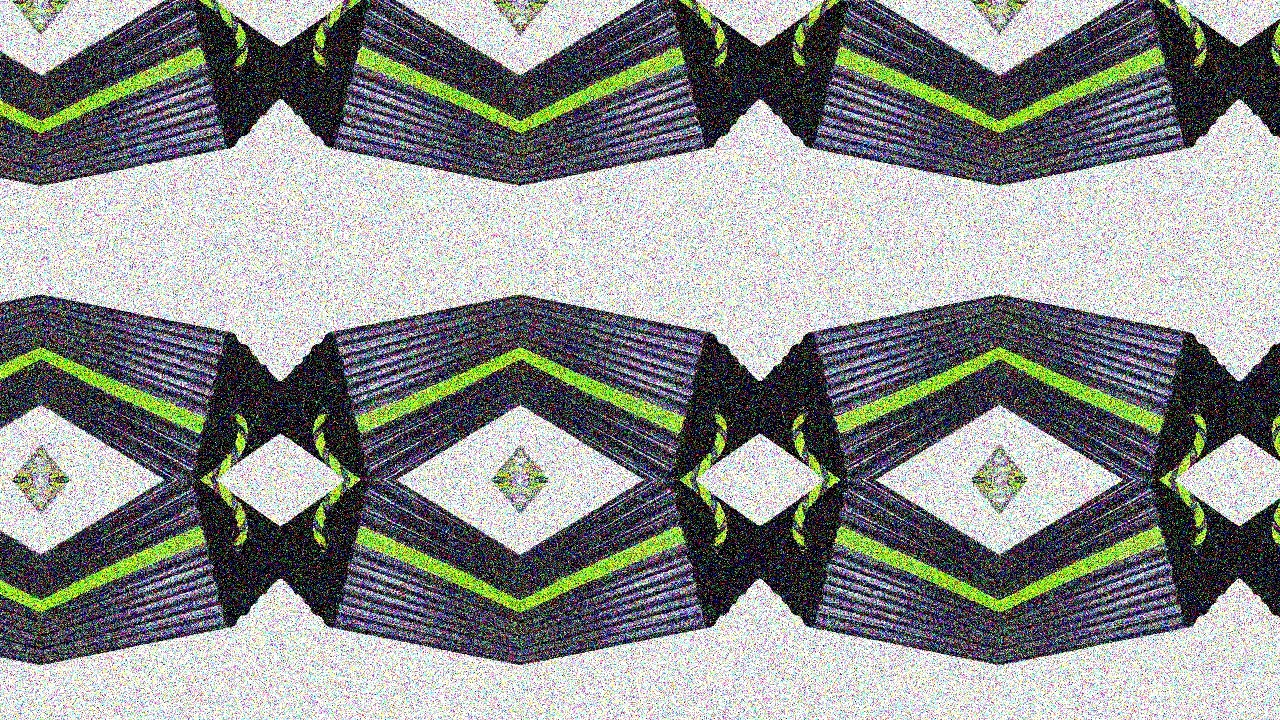chock: (40, 0, 280, 240), (280, 0, 520, 240), (520, 0, 760, 240), (760, 0, 1000, 240), (1000, 0, 1240, 240), (40, 240, 280, 480), (280, 240, 520, 480), (520, 240, 760, 480), (760, 240, 1000, 480), (1000, 240, 1240, 480), (40, 480, 280, 720), (280, 480, 520, 720), (520, 480, 760, 720), (760, 480, 1000, 720), (1000, 480, 1240, 720), (0, 0, 40, 240), (1240, 0, 1280, 240), (0, 240, 40, 480), (1240, 240, 1280, 480), (0, 480, 40, 720), (1240, 480, 1280, 720)
